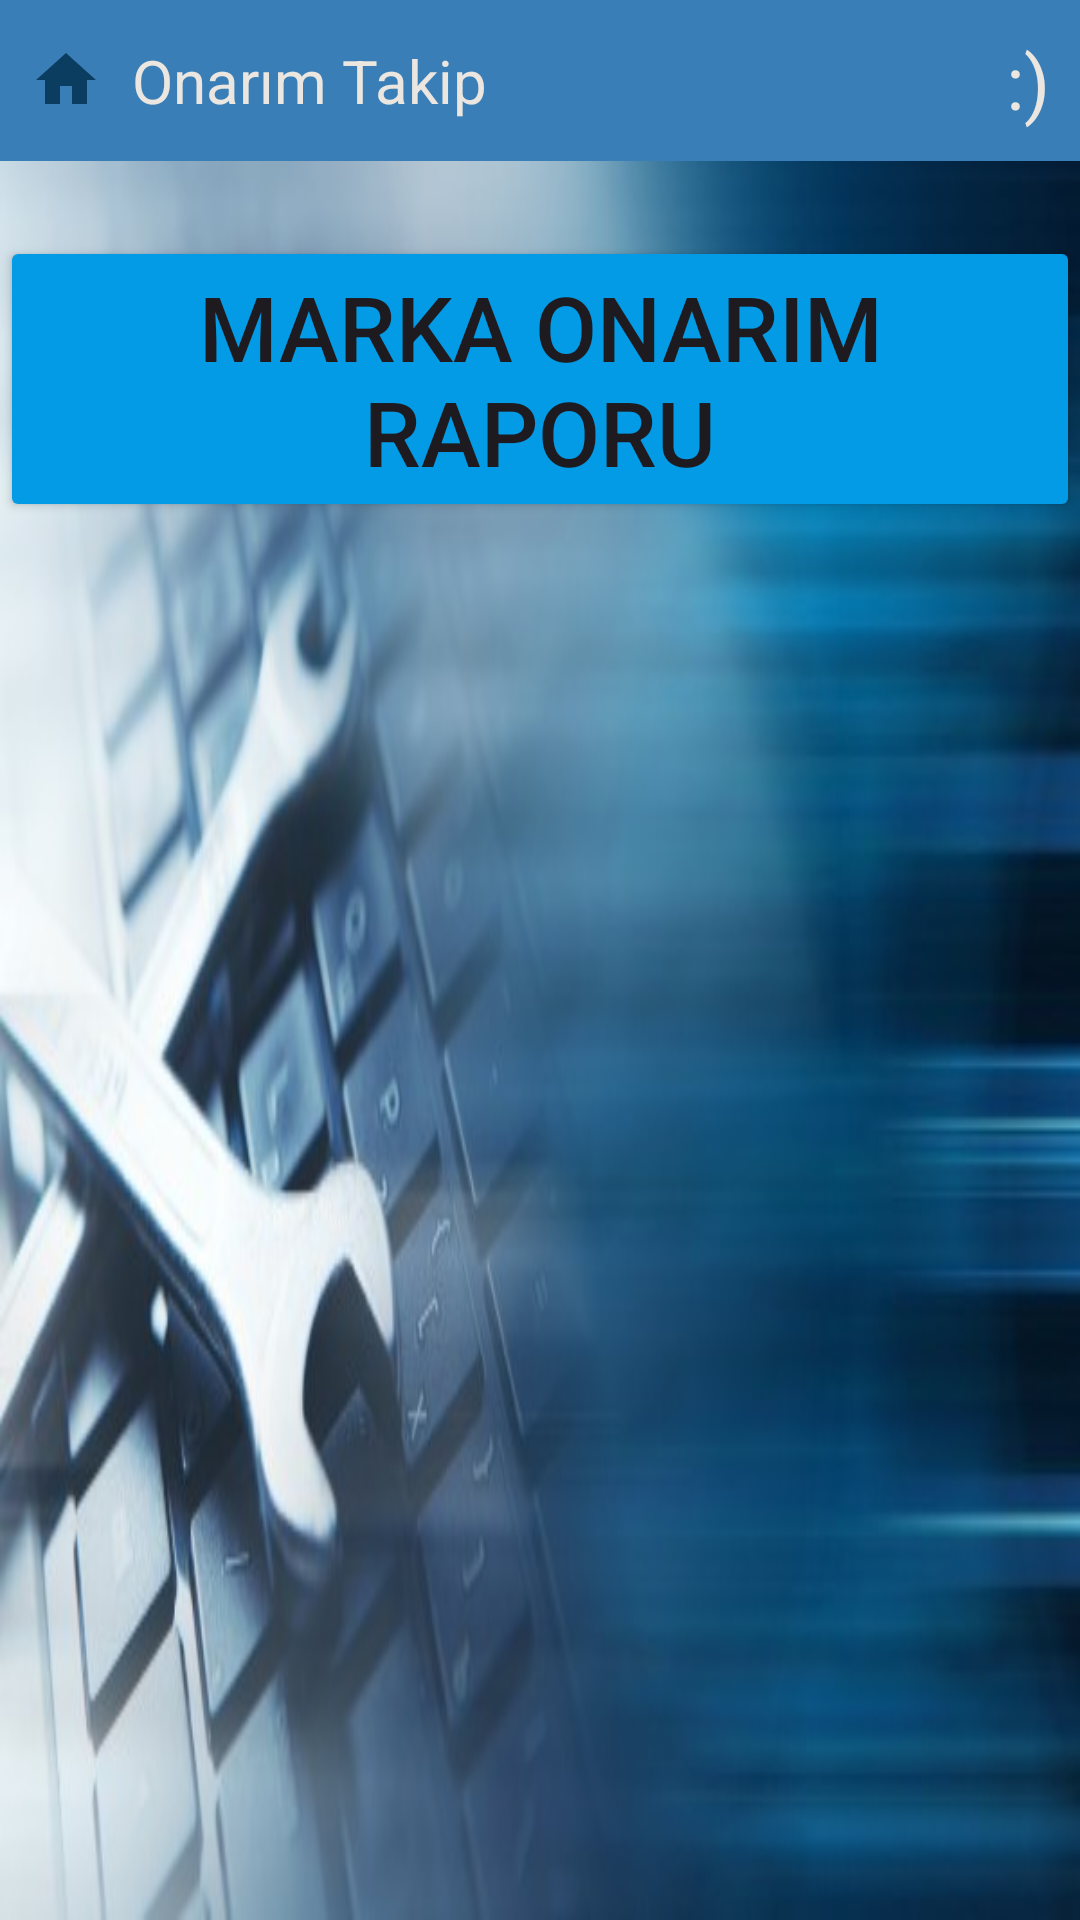

Screen size 1080w x 1920h. Icon name, then its box in pixels as (x1, y1, x2, y2):
home: (36, 53, 96, 104)
